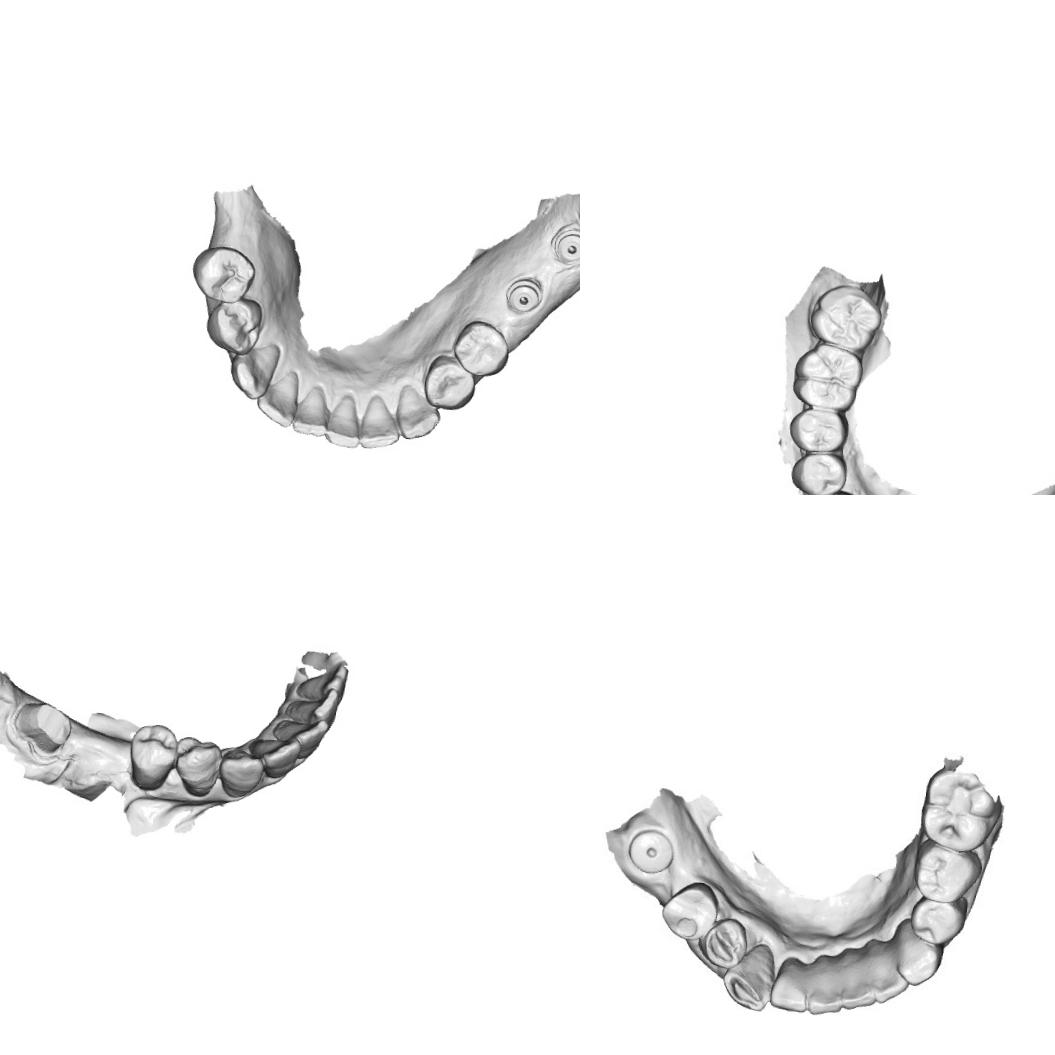canine: (721, 939, 778, 1013), (226, 338, 282, 402), (896, 919, 946, 989), (393, 381, 443, 442), (215, 746, 266, 800)
crown: (7, 698, 75, 759)
implant: (625, 823, 678, 877), (501, 274, 545, 314), (548, 226, 580, 265)
incisor: (253, 368, 302, 429), (866, 941, 908, 1007), (269, 716, 329, 761), (284, 682, 340, 728), (358, 392, 402, 450), (770, 952, 810, 1014), (244, 735, 300, 779), (321, 392, 363, 448), (293, 659, 349, 701), (805, 955, 842, 1017), (290, 382, 330, 439), (839, 949, 875, 1012)
molar: (917, 766, 1000, 855), (806, 280, 885, 356), (790, 340, 864, 412), (189, 242, 257, 304)
premolar: (659, 876, 722, 944), (914, 842, 980, 904), (124, 720, 180, 792), (200, 296, 264, 357), (449, 318, 512, 379), (420, 351, 478, 411), (785, 405, 852, 456), (172, 732, 222, 798), (911, 894, 964, 949), (787, 449, 849, 495), (698, 918, 752, 970)
